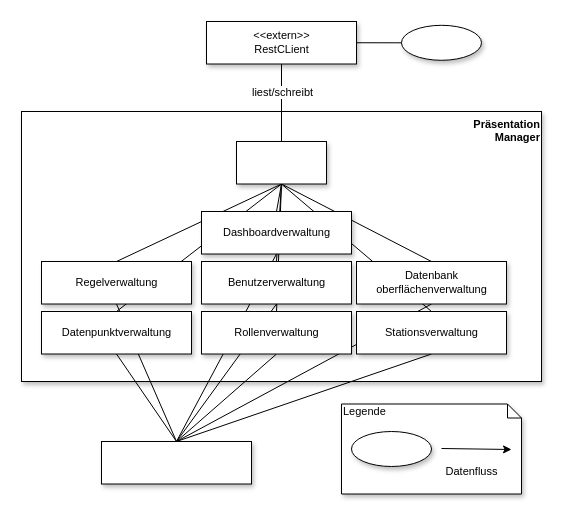
Some shapes in this 565 by 519 pixel diagram are drawn without their labels. The shapes that lost their labels are listed below. From the top down, each one's centre as x and y in pixels, then its label:
At pixel 442 43: "HTTP1.0".
At pixel 282 163: "RestManager".
At pixel 177 463: "Datenbankverwaltung".
At pixel 392 450: "Daten".
